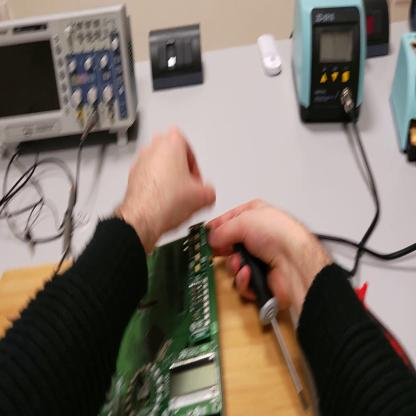hand: (210, 201, 300, 317), (125, 128, 214, 242)
low voltage board: (105, 224, 222, 416)
oscilloscope: (1, 3, 140, 157)
oscilloscope probe tip: (62, 179, 75, 262)
screwdriver-: (235, 241, 309, 413)
socket: (363, 4, 391, 59), (410, 1, 416, 33)
welder base: (390, 31, 416, 162)
welder station: (293, 3, 365, 126)
working area: (2, 259, 308, 416)
